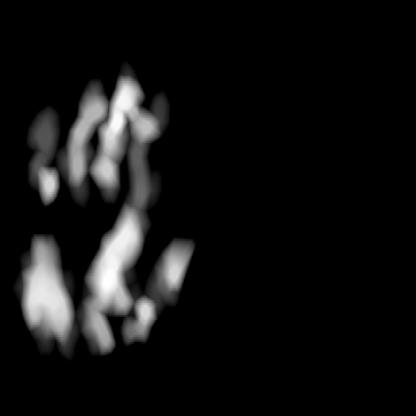fingers: (145, 234, 193, 305)
palm: (24, 59, 171, 207)
thumb: (16, 204, 147, 352)
